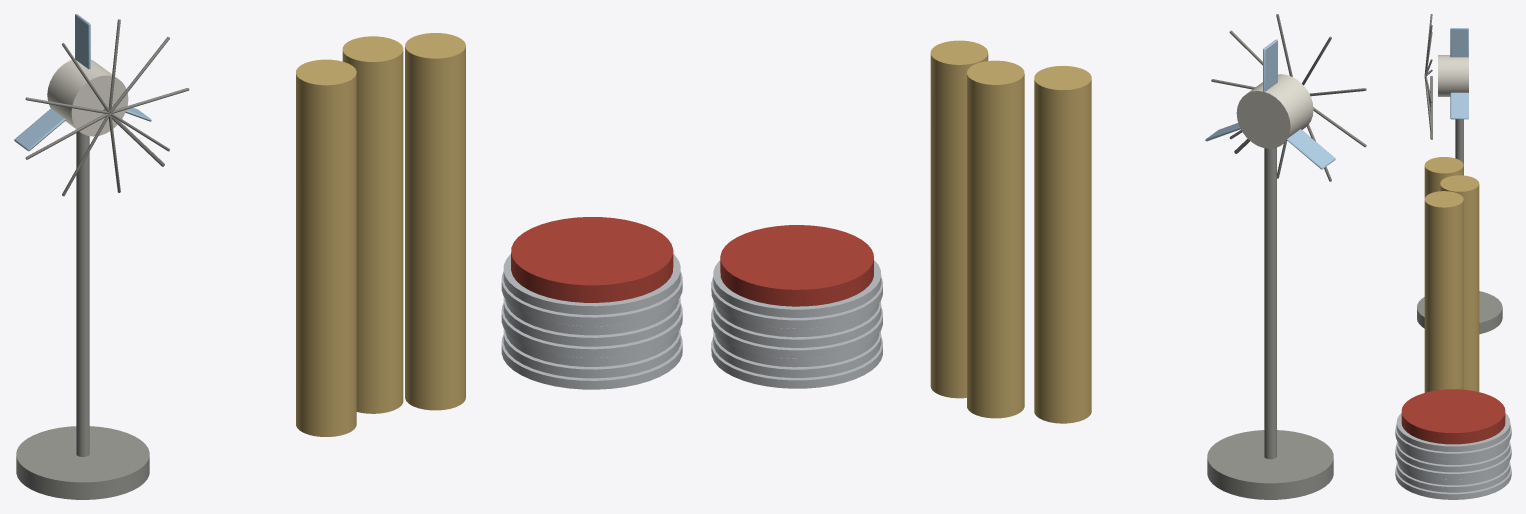
Rendered from GocKho_DoNha_Fix.glb.
The picture shows the model from 3 angles, left to right: view 1: azimuth 30°, elevation 25°; view 2: azimuth 150°, elevation 25°; view 3: azimuth 270°, elevation 25°; orthographic projection. The views are drawn at different scales.
Parts seen in each view (by area): view 1: GocKho_DoNha_Fix; view 2: GocKho_DoNha_Fix; view 3: GocKho_DoNha_Fix.
Part boxes in pixels (x1=…): GocKho_DoNha_Fix: x1=14, y1=14, x2=682, y2=499; GocKho_DoNha_Fix: x1=711, y1=14, x2=1366, y2=499; GocKho_DoNha_Fix: x1=1395, y1=14, x2=1511, y2=499.
Bounding box in the file's own units: 1.58 × 1.06 × 0.3738.
